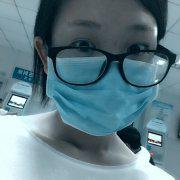OK: (47, 10, 159, 134)
